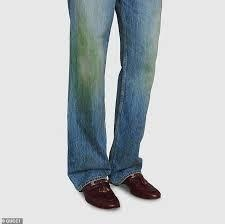earth: (74, 36, 97, 87)
